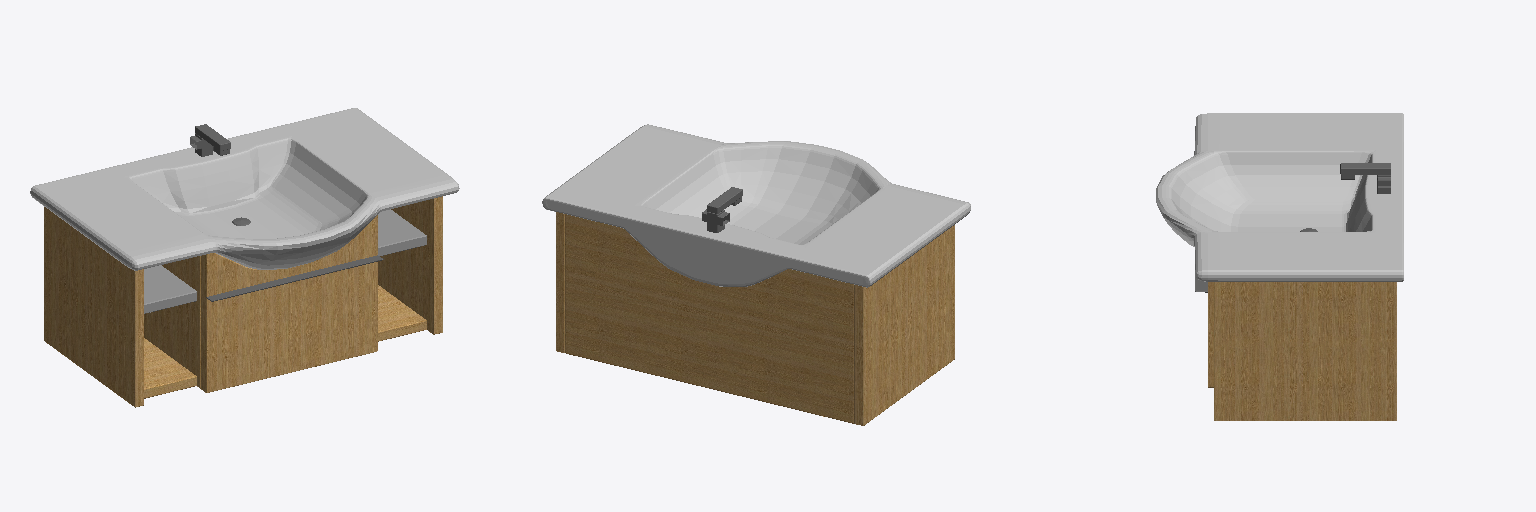
The picture shows the model from 3 angles: view 1: azimuth 30°, elevation 25°; view 2: azimuth 150°, elevation 25°; view 3: azimuth 270°, elevation 25°; orthographic projection.
Visible parts, largest first — view 1: Part1; view 2: Part1; view 3: Part1.
Part boxes in pixels (left/top/right/bottom): Part1: left=30, top=108, right=459, bottom=407; Part1: left=542, top=124, right=970, bottom=425; Part1: left=1156, top=113, right=1403, bottom=420.
Bounding box in the file's own units: 0.98 × 0.5139 × 0.6398.
Materials: 3 (1 with a texture image).